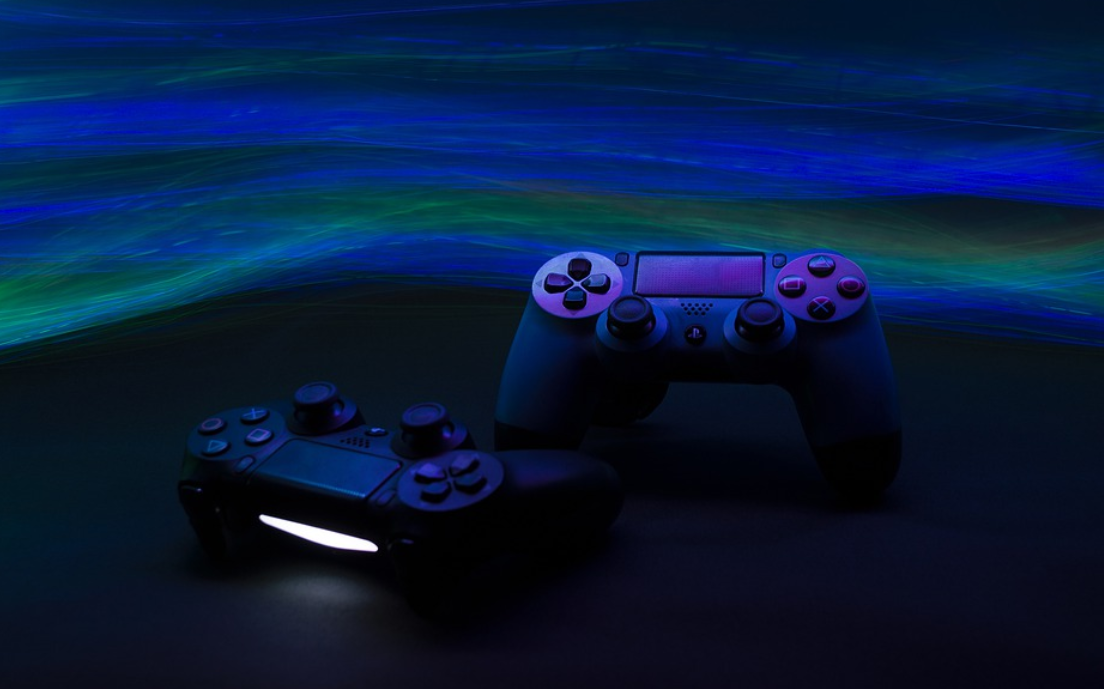gamingconsole: (499, 246, 899, 498)
